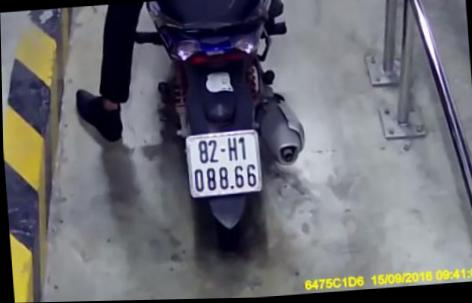LP: (182, 129, 264, 197)
